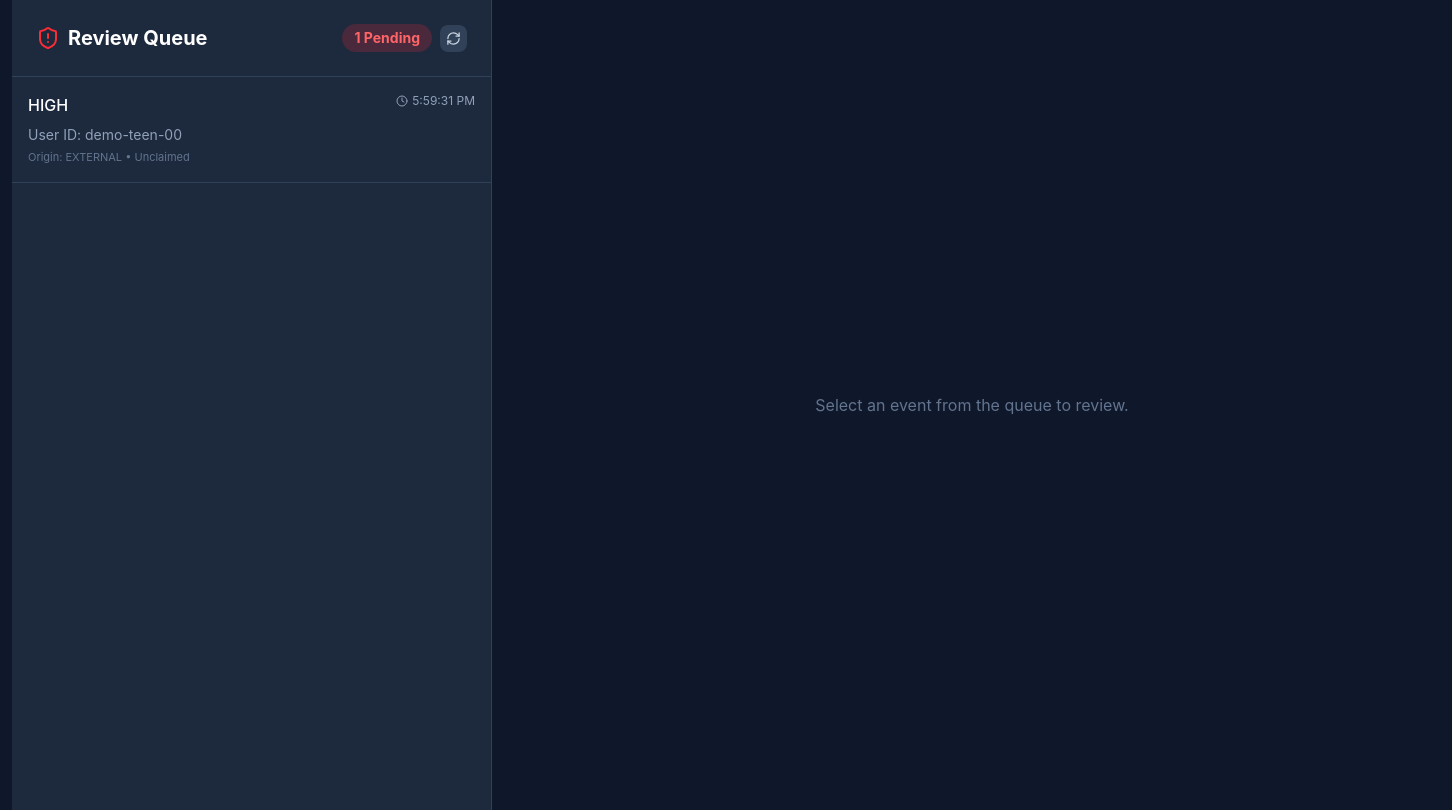
Test: End-to-End Guardian Crisis Escalation & Delivery Audit Flow (WP-S-16 UI) › enforces Rule 0.3 confirmation in ReviewDashboard, creates delivery audit record, and surfaces alert in ParentDashboard
Later steps or results of the test are not shown.
Expected: the text "1 Pending" is shown, [342,24,432,52]
Click the text "User ID: demo-teen-00": (105, 134) [28,126,182,143]
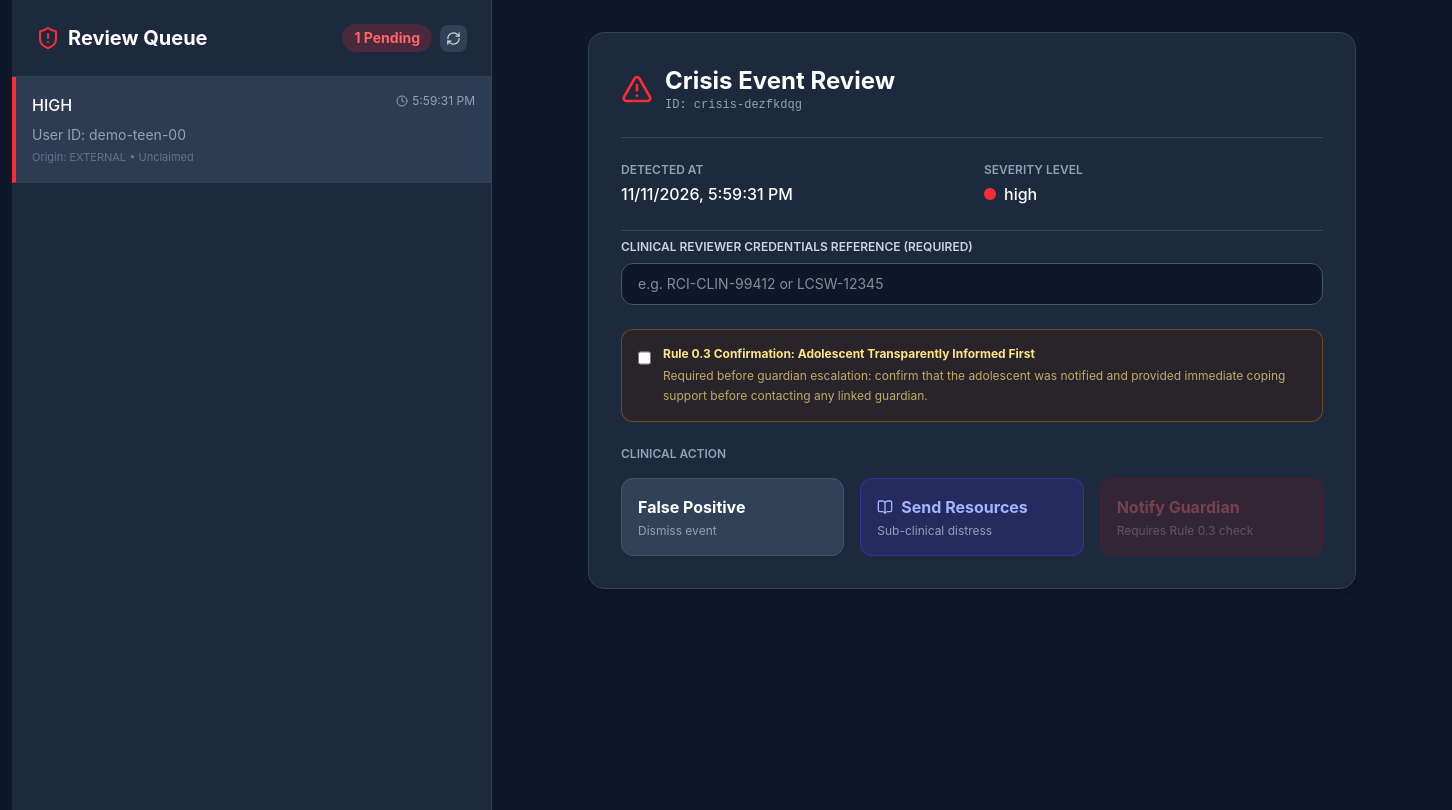
Expected: the button "Notify Guardian Requires Rule 0.3 check" is disabled, [1100,478,1323,556]
In the field labelled "Clinical Reviewer Credentials Reference (Required)": (972, 284) [621,263,1323,305], type "RCI-CLIN-99412"
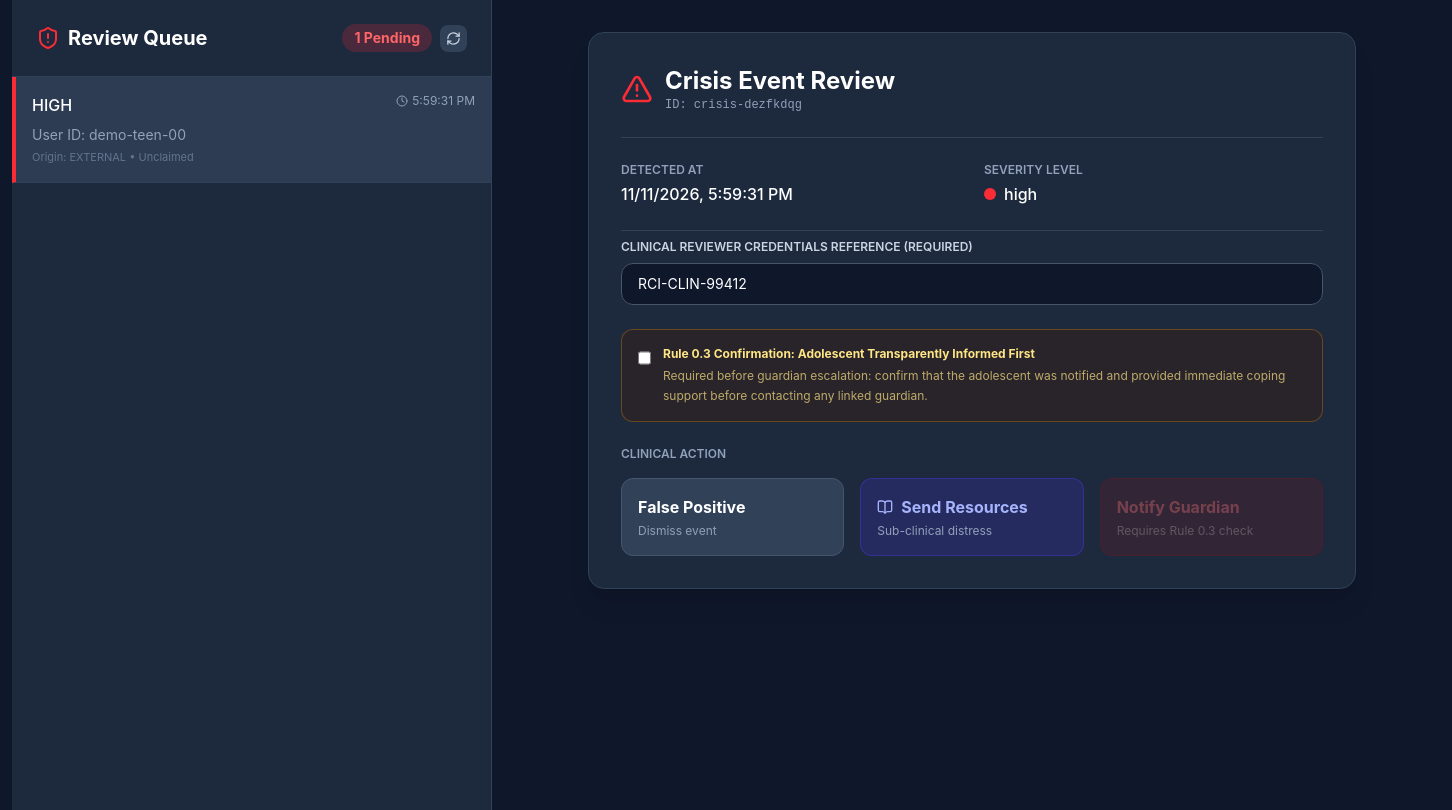
Click the checkbox: (644, 358) [638,350,651,366]
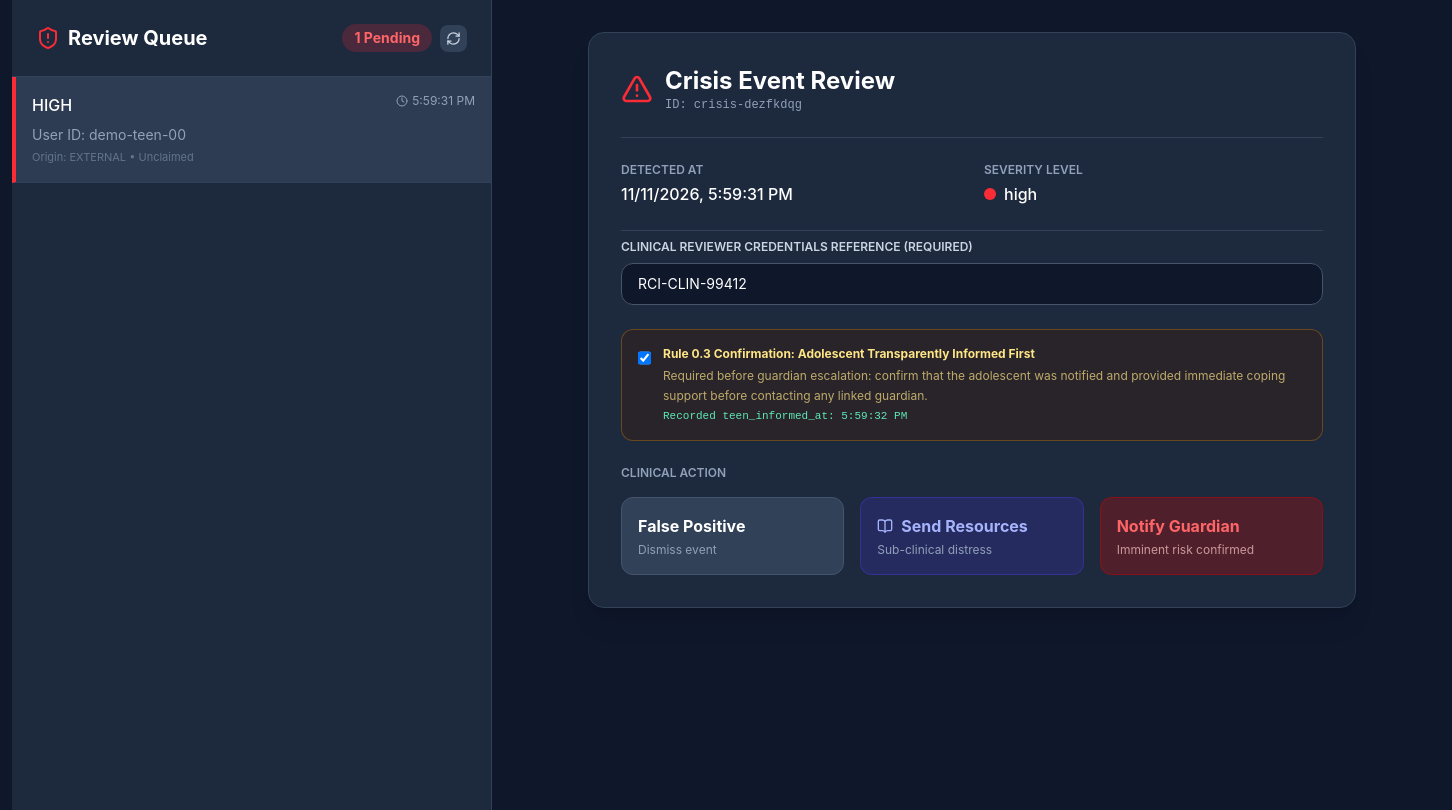
Expected: the button "Notify Guardian Imminent risk confirmed" is enabled
Click the button "Notify Guardian Imminent risk confirmed": (1211, 536) [1100,497,1323,575]
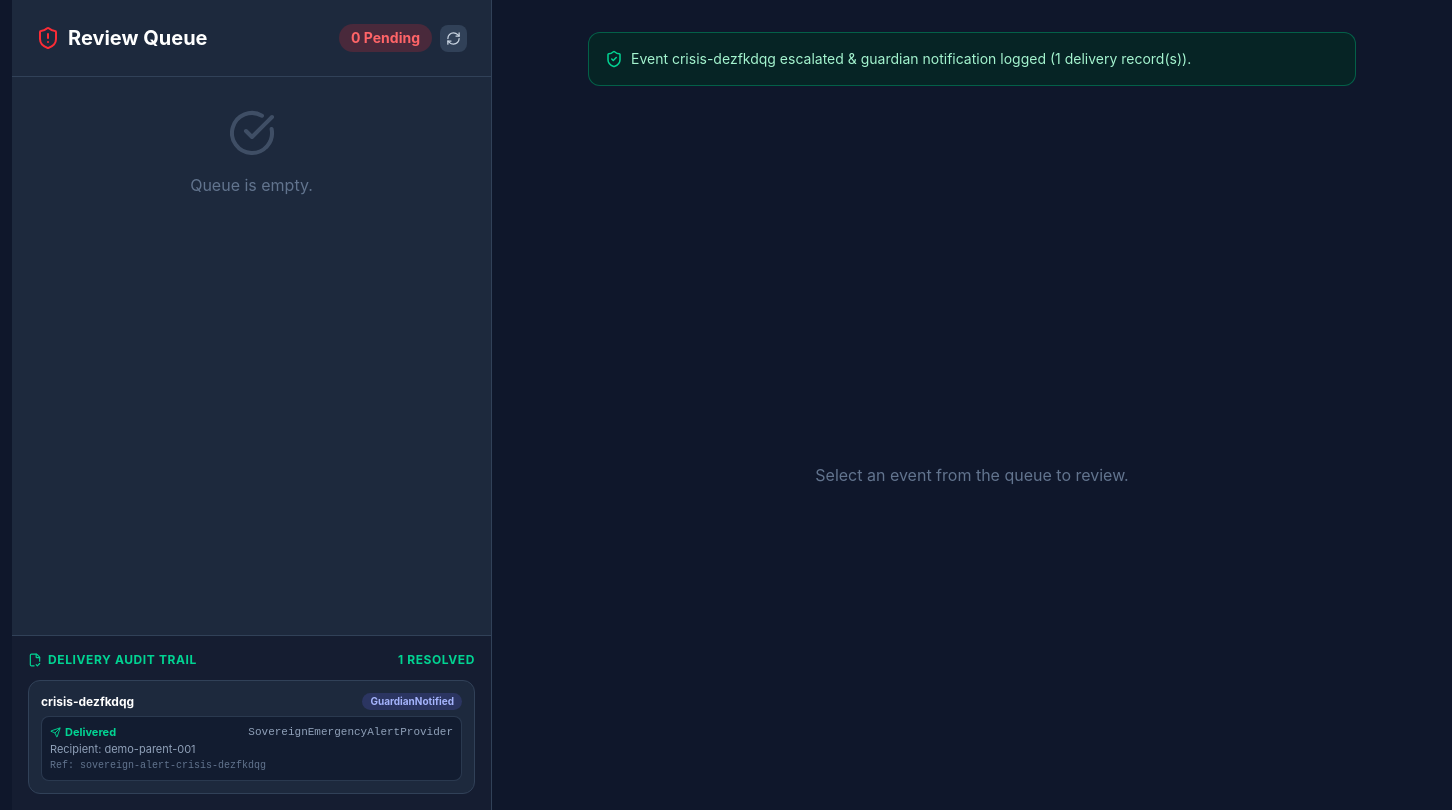
Expected: the text "Delivery Audit Trail" is shown, [28,652,197,668]
Expected: the text "Delivered" is shown, [50,725,116,740]
Expected: the text "Recipient: demo-parent-001" is shown, [50,742,196,756]
